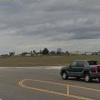Car: (57, 54, 100, 86)
